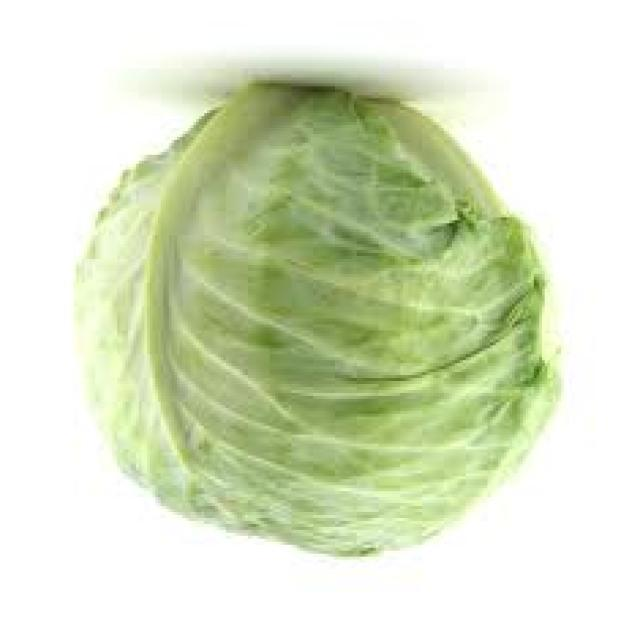Cabbage: (44, 66, 572, 590)
